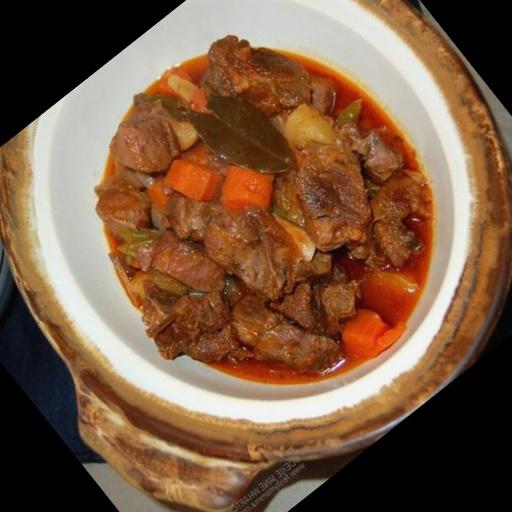pork caldereta: (107, 39, 428, 392)
